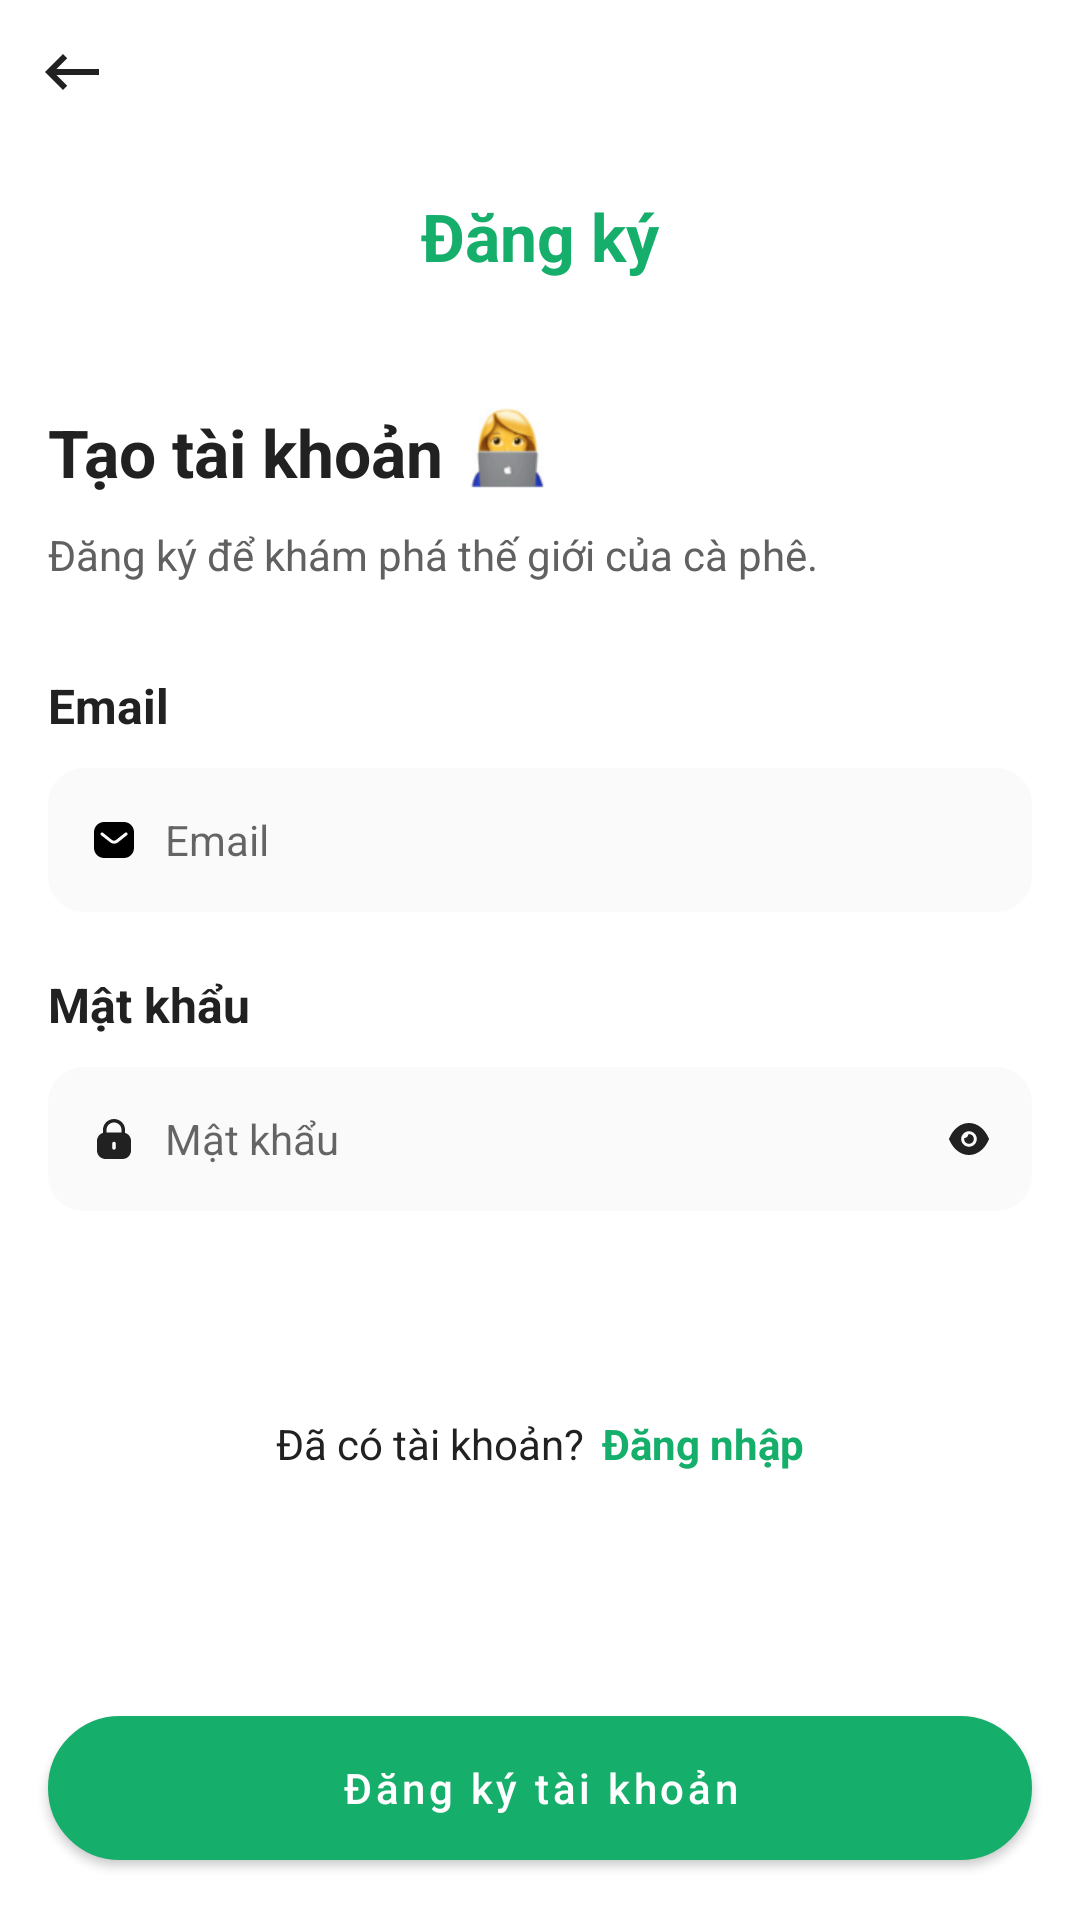

Where to tap for icons on this 1080x1920 app screen, as (x,y):
back: (72,72)
password: (114,1139)
show: (969,1139)
